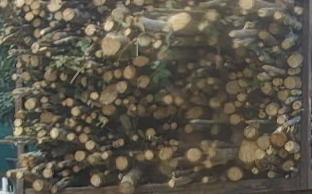large: (163, 12, 190, 32), (238, 140, 256, 162), (102, 33, 120, 55), (100, 84, 118, 106)
medium: (185, 106, 202, 120), (288, 53, 303, 68), (228, 168, 242, 181), (226, 81, 239, 94), (266, 102, 279, 115), (47, 0, 61, 12), (160, 147, 172, 161), (285, 77, 299, 89), (188, 148, 200, 161), (137, 75, 149, 88), (258, 136, 270, 149), (134, 55, 148, 66), (121, 181, 133, 193), (273, 133, 285, 145), (229, 113, 241, 125), (154, 107, 166, 119), (25, 97, 36, 110), (125, 65, 135, 79), (286, 141, 298, 152), (139, 36, 151, 47), (258, 29, 269, 41), (102, 105, 114, 116), (160, 162, 171, 174), (63, 8, 73, 21), (116, 157, 126, 170), (270, 23, 280, 36), (43, 70, 56, 80), (283, 160, 294, 171), (200, 140, 211, 151), (206, 10, 217, 21), (245, 126, 255, 138), (103, 70, 113, 82), (104, 19, 114, 31), (240, 0, 254, 8), (117, 82, 127, 93), (85, 24, 95, 35), (50, 128, 60, 139), (282, 39, 293, 49), (262, 83, 272, 94), (13, 126, 23, 137), (170, 157, 180, 168), (92, 175, 101, 187), (34, 179, 43, 191), (31, 41, 40, 53), (224, 103, 234, 113), (74, 151, 84, 161), (279, 90, 288, 101), (43, 168, 52, 179), (114, 68, 123, 79), (31, 56, 40, 67), (256, 9, 267, 18), (255, 148, 264, 159), (147, 129, 156, 140), (211, 98, 220, 109), (71, 107, 81, 116), (86, 141, 96, 150), (80, 133, 89, 143), (164, 95, 174, 104), (145, 149, 153, 160), (66, 132, 75, 141), (24, 12, 33, 21), (30, 1, 39, 10), (175, 97, 184, 106), (277, 115, 286, 124), (294, 6, 303, 15), (212, 125, 220, 135), (209, 148, 217, 158), (273, 12, 282, 20), (293, 103, 302, 111), (237, 94, 246, 102), (13, 119, 22, 127), (33, 19, 41, 27), (33, 29, 40, 37)
small: (84, 126, 91, 134), (87, 154, 94, 162), (102, 153, 109, 160), (91, 92, 98, 99), (259, 41, 266, 48), (273, 78, 280, 85), (77, 125, 83, 132), (86, 119, 93, 125), (41, 81, 47, 88), (55, 12, 62, 18), (51, 185, 57, 192), (61, 72, 66, 80), (91, 113, 97, 119), (66, 99, 72, 105), (186, 126, 192, 132), (6, 171, 12, 177), (34, 10, 40, 16), (23, 6, 29, 12), (283, 123, 289, 129), (252, 168, 258, 174), (236, 101, 242, 107), (170, 179, 176, 185), (41, 96, 47, 102), (73, 166, 79, 172), (171, 123, 177, 129), (258, 74, 264, 80), (81, 114, 86, 121), (187, 1, 194, 6), (238, 73, 243, 79), (47, 163, 52, 169), (269, 173, 275, 178), (230, 73, 236, 78), (229, 32, 235, 37), (206, 161, 212, 166), (58, 162, 63, 168), (134, 135, 139, 141), (164, 123, 169, 129), (17, 172, 22, 177), (209, 78, 214, 83), (185, 6, 190, 11), (204, 176, 209, 181), (51, 84, 56, 89), (77, 30, 82, 35), (32, 169, 37, 174), (12, 74, 17, 79), (16, 61, 21, 66), (260, 55, 265, 60), (246, 57, 251, 62), (63, 170, 67, 176), (129, 151, 133, 156), (194, 167, 198, 171), (57, 122, 61, 126), (40, 31, 44, 35)
